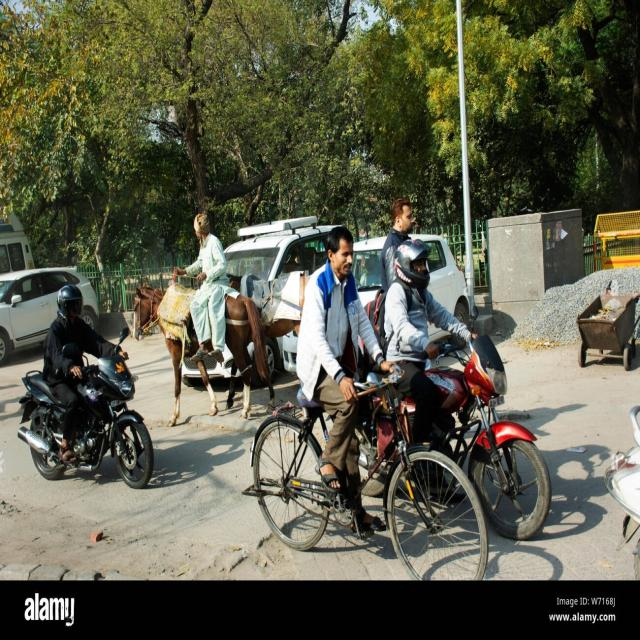bicycle: (246, 226, 488, 579)
car: (0, 267, 99, 363)
motorcycle: (384, 238, 551, 540), (19, 286, 154, 488)
